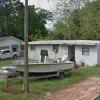Boat: (11, 52, 79, 84)
